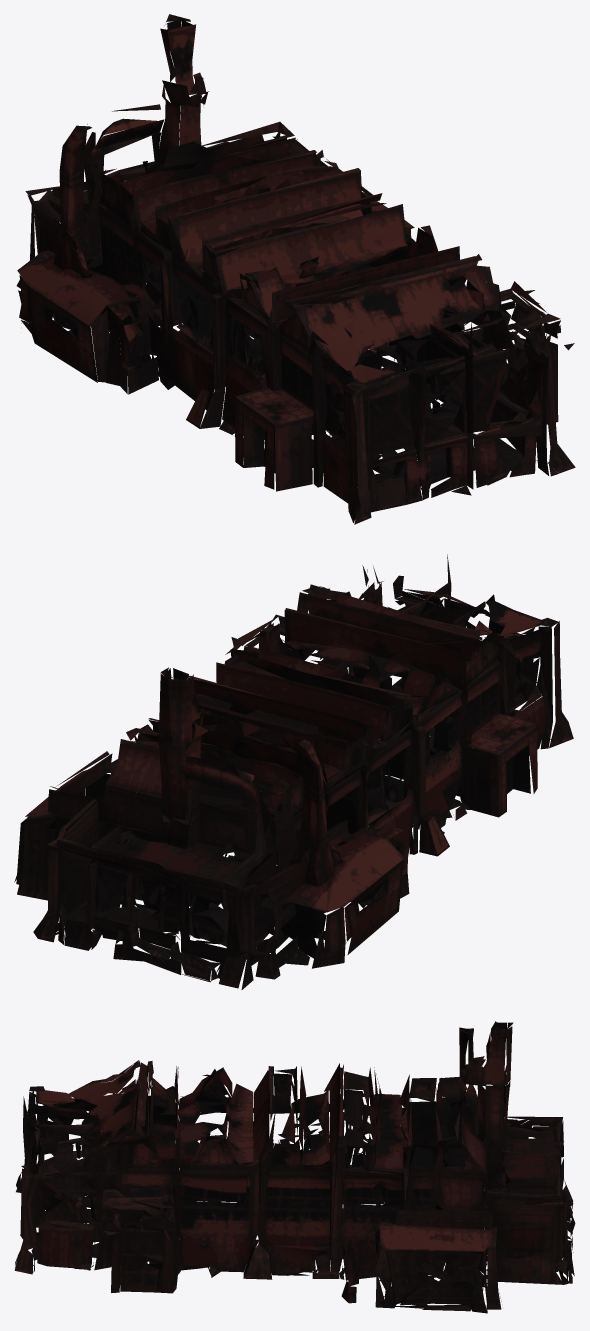
File: sk_factory_a.glb
3 views of the same model, one above another, from view 1: azimuth 30°, elevation 25°; view 2: azimuth 150°, elevation 25°; view 3: azimuth 270°, elevation 25° (orthographic). The views are drawn at different scales.
Parts seen in each view (by area): view 1: sk_factory_a; view 2: sk_factory_a; view 3: sk_factory_a.
Boxes of the visible parts, x1=… form: sk_factory_a: x1=16, y1=14, x2=575, y2=524; sk_factory_a: x1=14, y1=554, x2=573, y2=989; sk_factory_a: x1=14, y1=1021, x2=575, y2=1313.
Bounding box in the file's own units: 0.5891 × 0.4503 × 1.01.
Materials: 1 (1 with a texture image).
